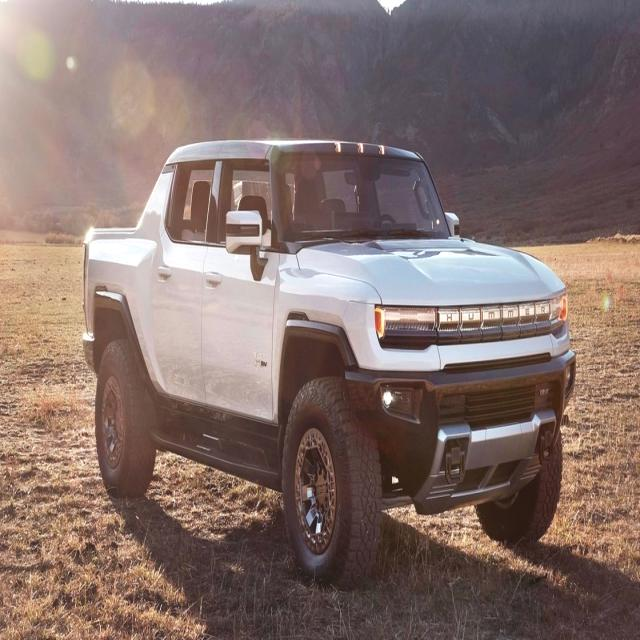CMT: (78, 135, 575, 588)
